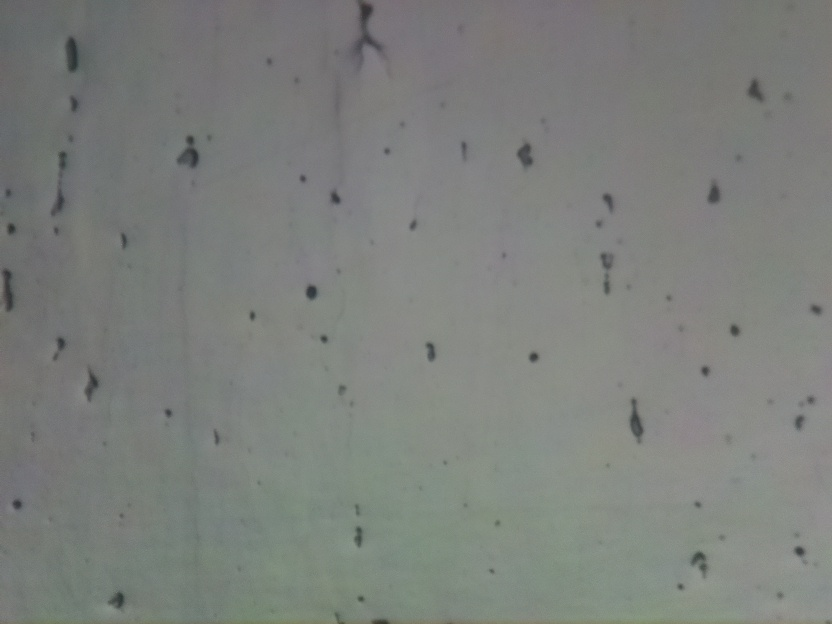crack: (343, 0, 384, 58)
